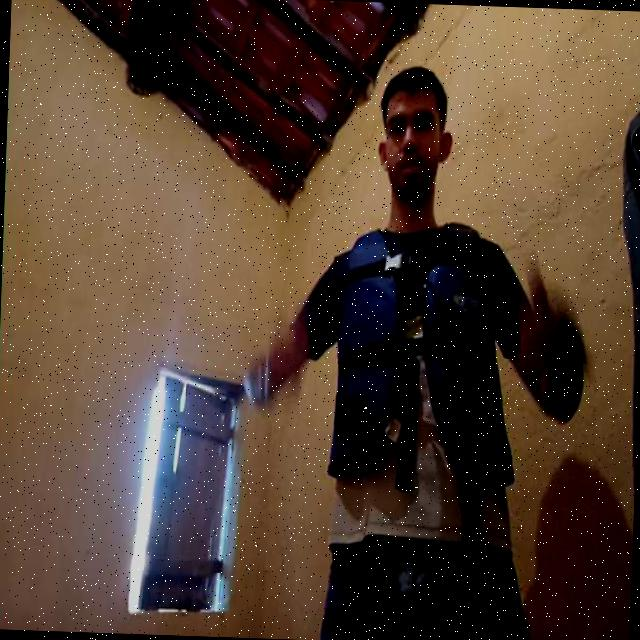colete: (299, 214, 528, 493)
pessoa: (259, 61, 589, 640)
